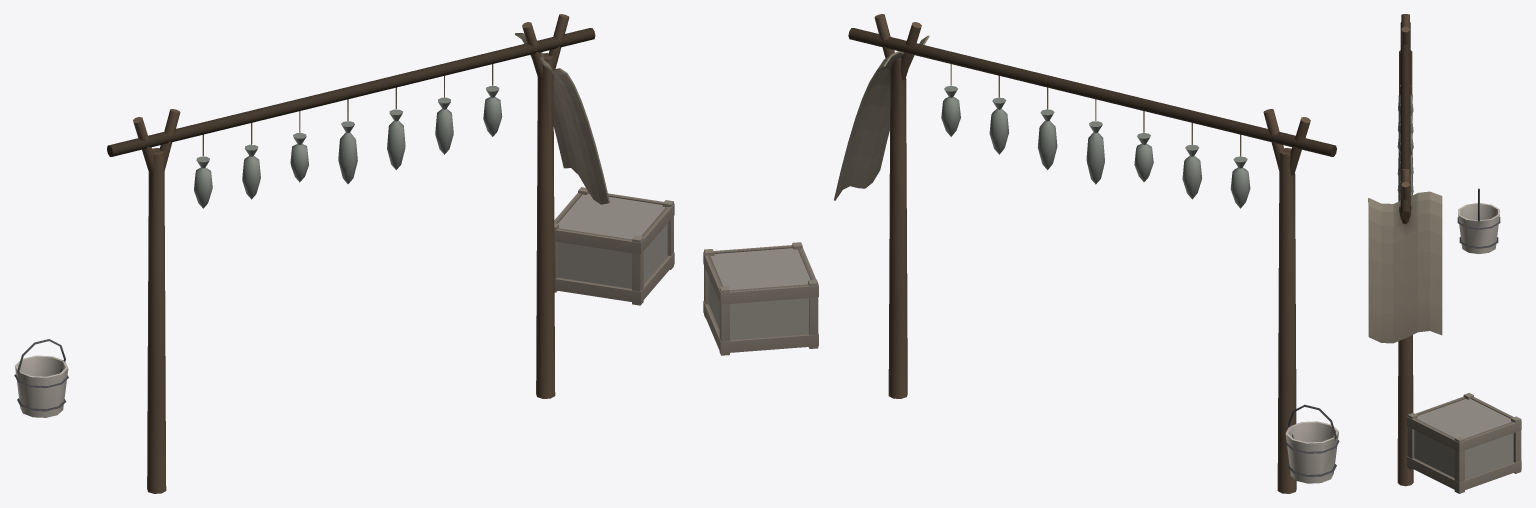
Rendered from fish_rack.glb.
3 views of the same model, side by side, from view 1: azimuth 30°, elevation 25°; view 2: azimuth 150°, elevation 25°; view 3: azimuth 270°, elevation 25° (orthographic). The views are drawn at different scales.
Parts seen in each view (by area): view 1: fish_rack; view 2: fish_rack; view 3: fish_rack.
Part boxes in pixels (box(x1,y1,x2,y2)): fish_rack: box(14, 14, 674, 493); fish_rack: box(703, 14, 1339, 493); fish_rack: box(1368, 14, 1521, 493).
Size of the model in its own units: 4.15 by 2.31 by 1.04.
